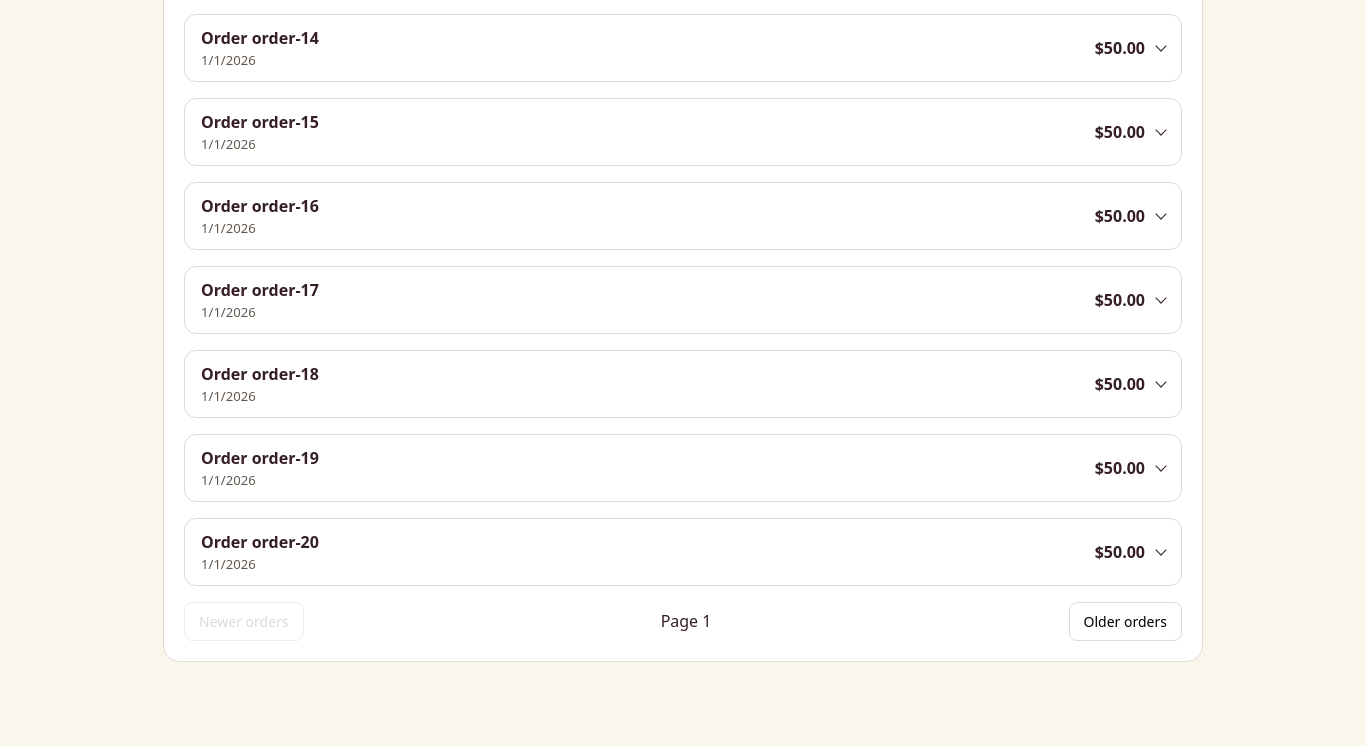
Test case: paginates 25 orders and resets the page when filtering by status
The width and height of the screenshot is (1366, 746).
(page scrolled)
Click the button "Older orders": (1125, 621) x1=1068 y1=602 x2=1182 y2=641
(page scrolled)
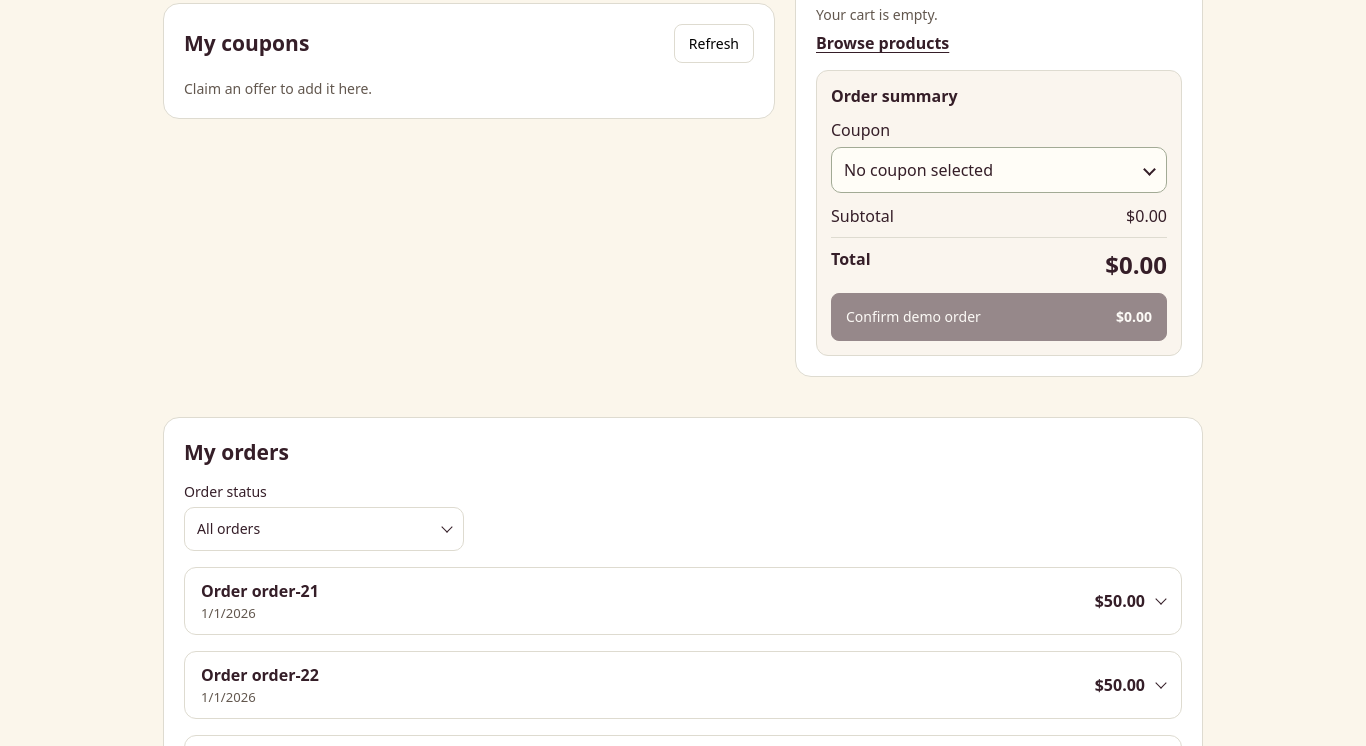
Expected: the number of elements with class "retail-order" is 5
Click the heading "All orders": (229, 529) x1=184 y1=507 x2=464 y2=551
(page scrolled)
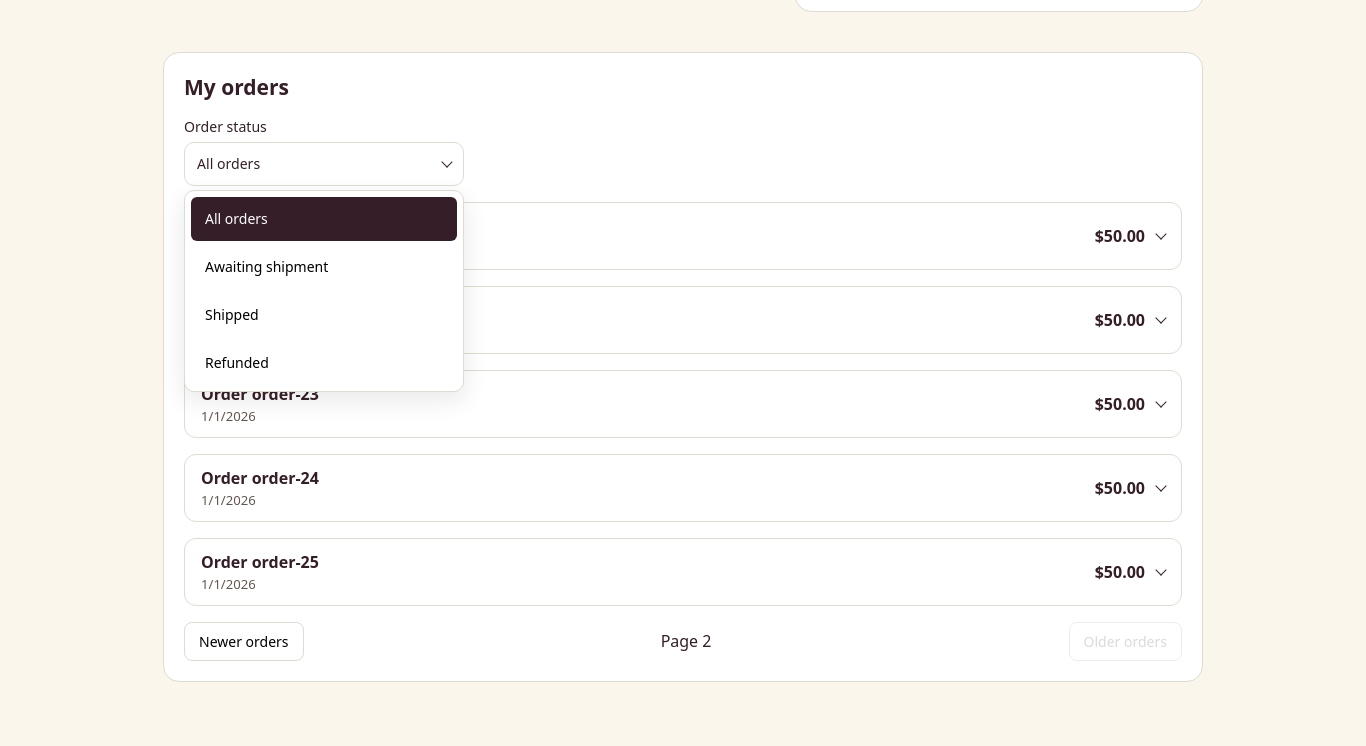
Click the button "Refunded": (237, 363) x1=191 y1=341 x2=457 y2=385
(page scrolled)
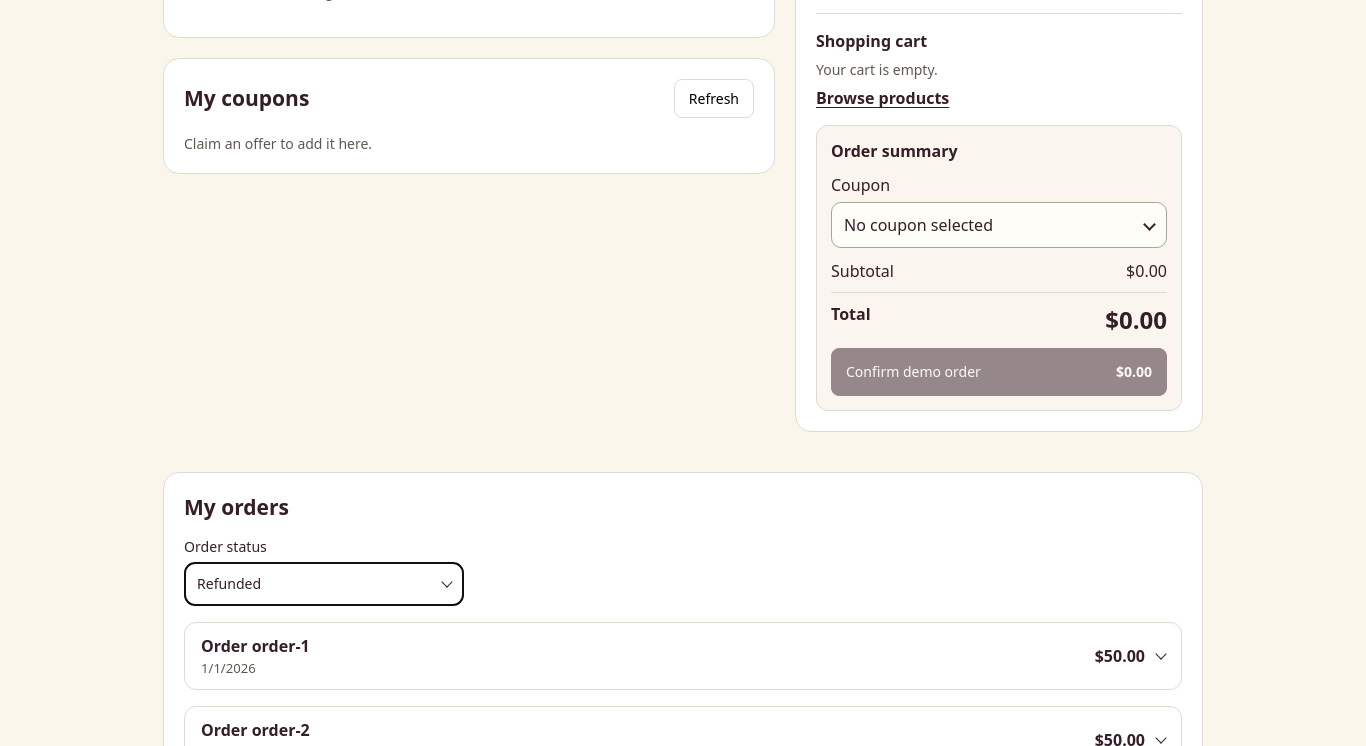
Expected: the text "Order order-1" is shown, x1=201 y1=635 x2=310 y2=657
Expected: the number of elements with class "retail-order" is 3
Expected: the text "Page 2" is gone
